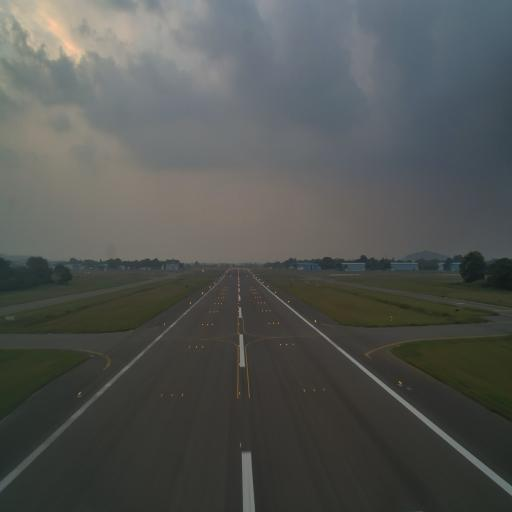on: (398, 380, 404, 388), (78, 389, 82, 398), (239, 441, 243, 450), (160, 391, 164, 398), (170, 392, 174, 398), (322, 387, 326, 393), (238, 342, 241, 350), (285, 341, 288, 348), (302, 389, 306, 394), (238, 391, 241, 397), (181, 392, 184, 398), (313, 387, 316, 393), (188, 344, 191, 350), (195, 344, 198, 350), (279, 342, 282, 347), (238, 361, 240, 367), (292, 342, 294, 347), (202, 345, 204, 349)
